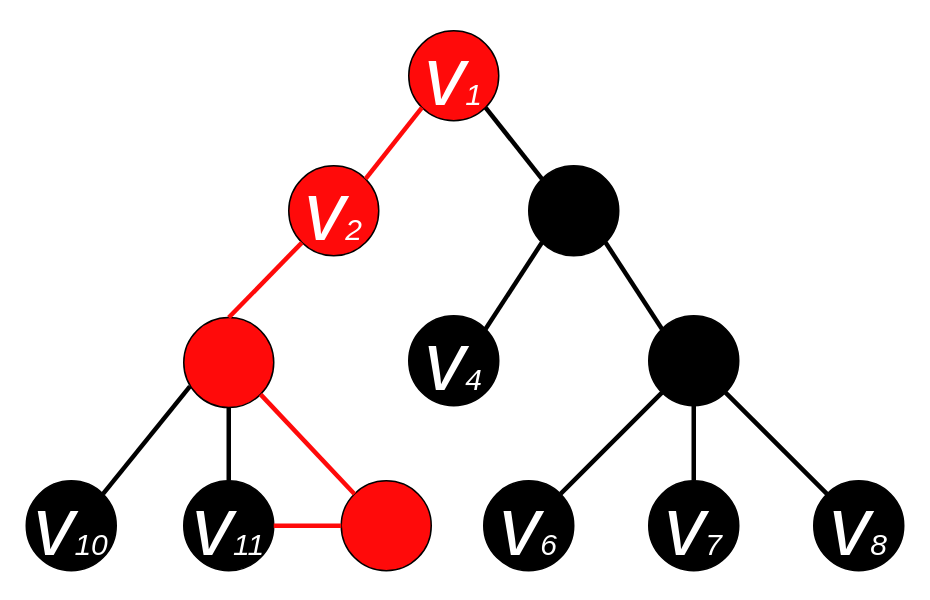
The diagram is 930 pixels wide and 600 high, and some of its shapes have lost their labels. The centre of each missing label's shape, as x and y in pixels:
"v 12" goes at point 385,525.
"v 3" goes at point 573,210.
"v 5" goes at point 693,360.
"v 9" goes at point 228,362.
